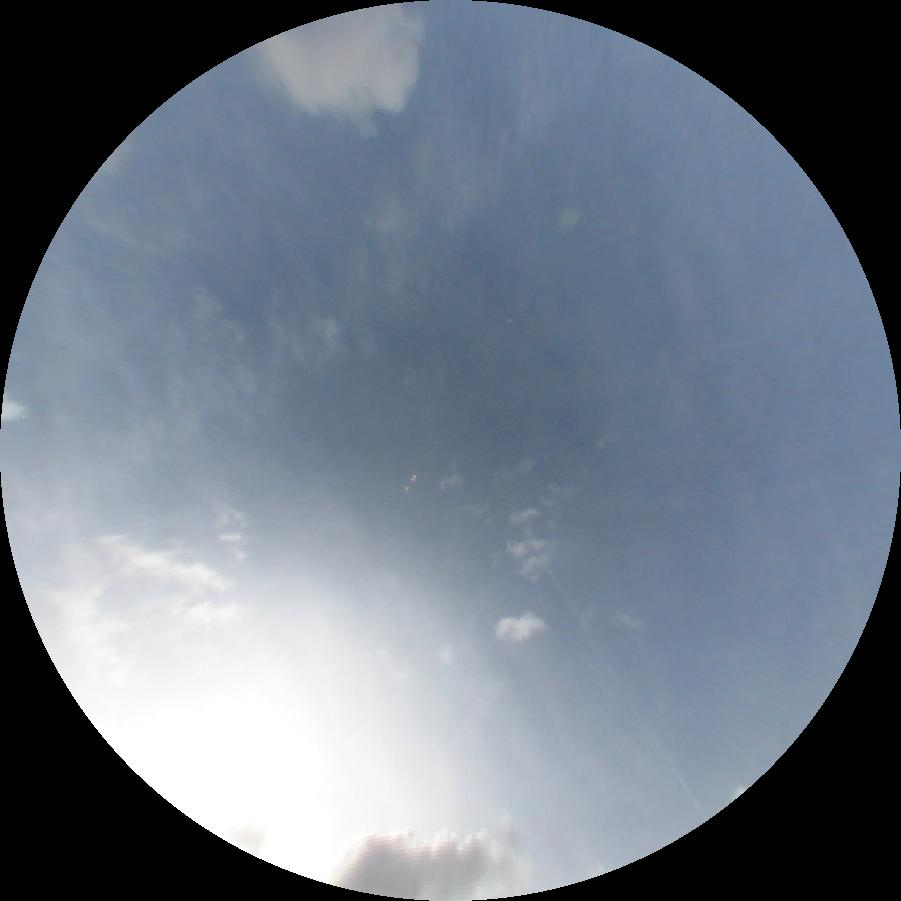contrail old: (523, 523, 709, 822)
sun: (68, 667, 369, 883)
